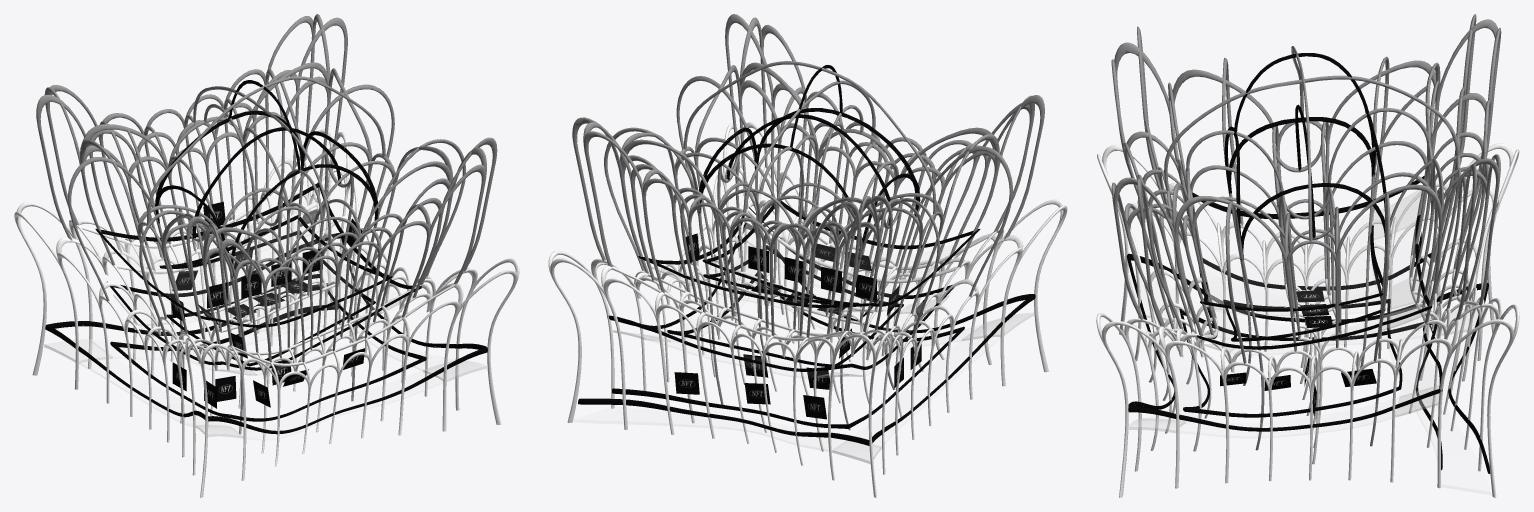
The model's file is 20-SPYDER_MOSK_Digital_Topographies_20_.glb.
The picture shows the model from 3 angles, left to right: view 1: azimuth 30°, elevation 25°; view 2: azimuth 150°, elevation 25°; view 3: azimuth 270°, elevation 25°; orthographic projection. The views are drawn at different scales.
Parts seen in each view (by area): view 1: r2, r1, railing, Corner %43, r3; view 2: r2, r1, railing, r3, Corner %43; view 3: r2, r1, railing, Corner %43, r3, Linear %12.
Part boxes in pixels (left/top/right/bottom): r2: left=36, top=14, right=497, bottom=434; r1: left=14, top=127, right=519, bottom=497; railing: left=45, top=183, right=487, bottom=434; Corner %43: left=44, top=195, right=486, bottom=438; r3: left=155, top=80, right=378, bottom=277; r2: left=572, top=14, right=1044, bottom=430; r1: left=548, top=122, right=1067, bottom=497; railing: left=578, top=201, right=1035, bottom=445; r3: left=698, top=65, right=920, bottom=259; Corner %43: left=613, top=221, right=1033, bottom=463; r2: left=1111, top=14, right=1501, bottom=450; r1: left=1096, top=143, right=1519, bottom=497; railing: left=1127, top=176, right=1490, bottom=473; Corner %43: left=1129, top=190, right=1487, bottom=432; r3: left=1224, top=53, right=1386, bottom=260; Linear %12: left=1184, top=286, right=1474, bottom=423.
Bounding box in the file's own units: 32 × 30 × 32.
Materials: 43 (36 with a texture image).
